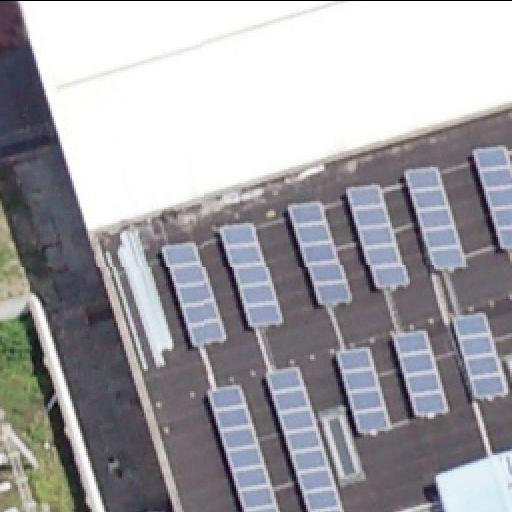solar-panel: (263, 360, 345, 512), (211, 380, 277, 512), (404, 158, 468, 270), (165, 234, 227, 346), (288, 198, 352, 306), (220, 220, 284, 328), (345, 180, 407, 288), (391, 327, 449, 417), (334, 345, 394, 431), (451, 310, 509, 398), (472, 144, 512, 252)
